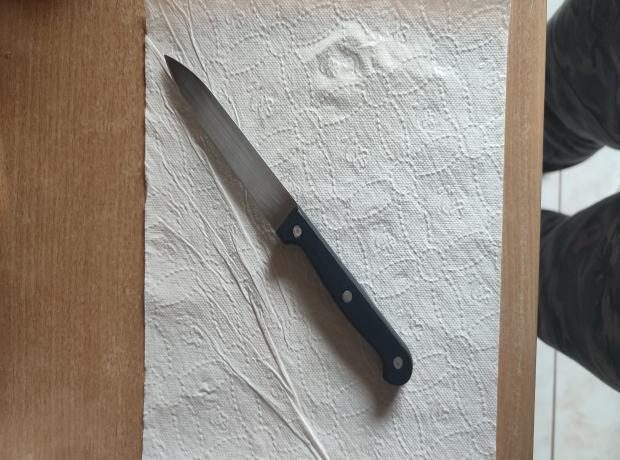metal: (164, 50, 416, 394)
